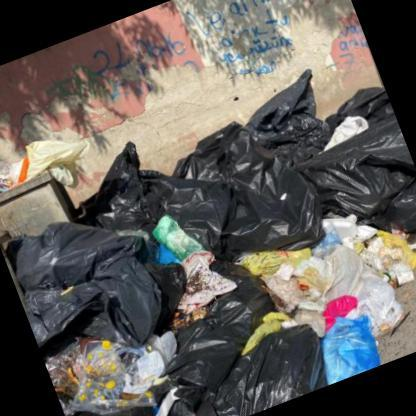Garbage: (130, 86, 415, 415), (5, 147, 333, 415), (188, 56, 415, 328), (0, 116, 103, 215)
